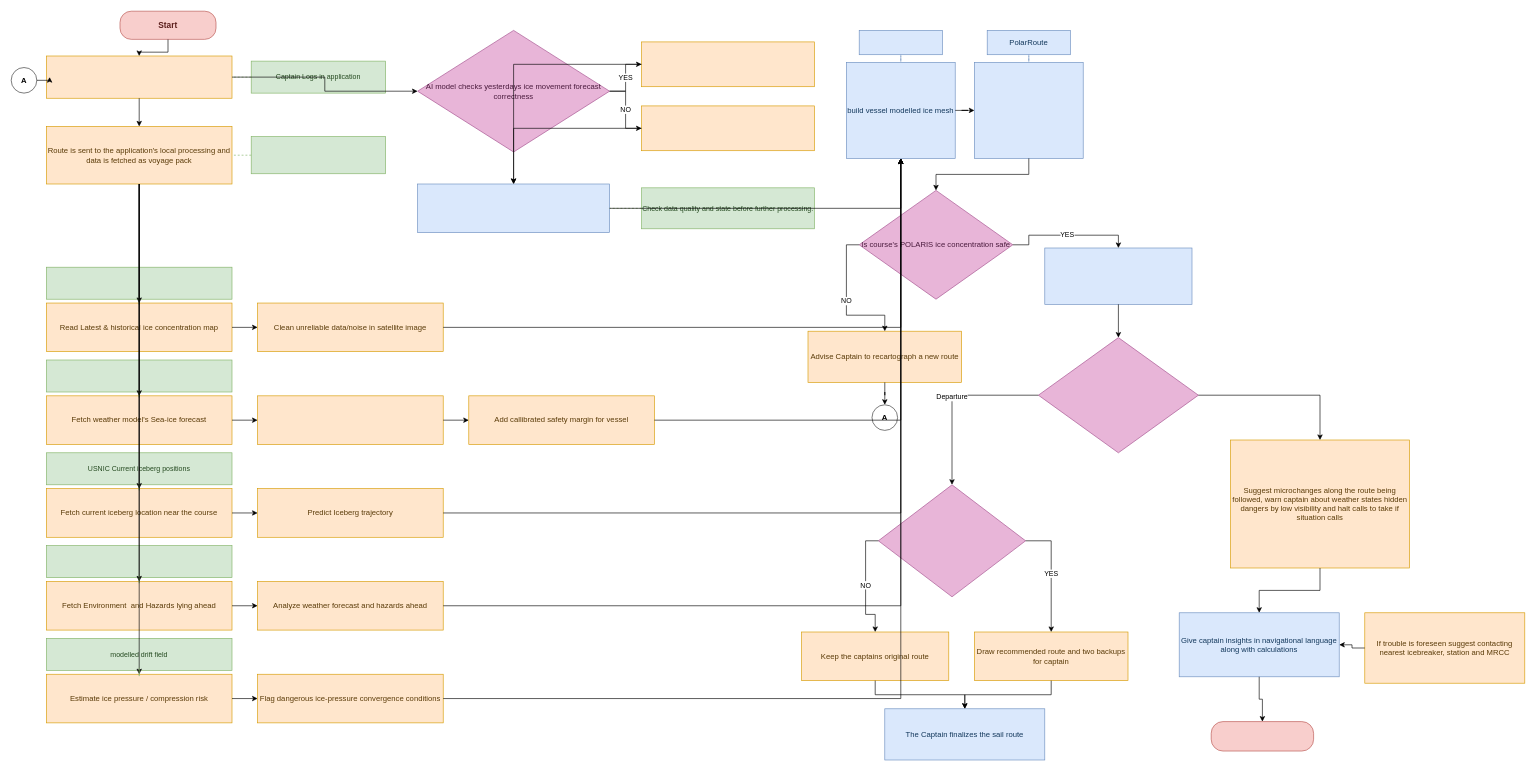
Image size: 1536x771. Some labels were removed from this diagram. Here are the shapes that lost their labels. From the top down, the box of each, then its label:
(859, 30, 942, 55): meshiphi
(46, 55, 232, 98): Captain Marks Route in the Application
(641, 41, 814, 87): Keep default Confidence in route suggestion
(641, 105, 814, 151): Lower Confidence and increase number of safe routes
(974, 62, 1083, 158): Compute candidate routes
(251, 136, 386, 174): Navigation Decision Processing start
(417, 183, 610, 233): Notify system's degradation state to the captain
(46, 267, 232, 299): Taken by NSIDC satellite with SSMIS sensor
(1044, 247, 1192, 304): Include additional hazards in suggested routes
(46, 359, 232, 392): CMEMS Sea-ice forecast
(1038, 337, 1198, 453): Is this departure decision or have we already left port
(257, 395, 443, 444): AI model corrects mistakes in the forecast
(878, 484, 1026, 597): Is new route better enough to suggest it?
(46, 545, 232, 578): ERA/GFS wind + waves , GEBCO bathymetry
(1211, 721, 1314, 751): End
